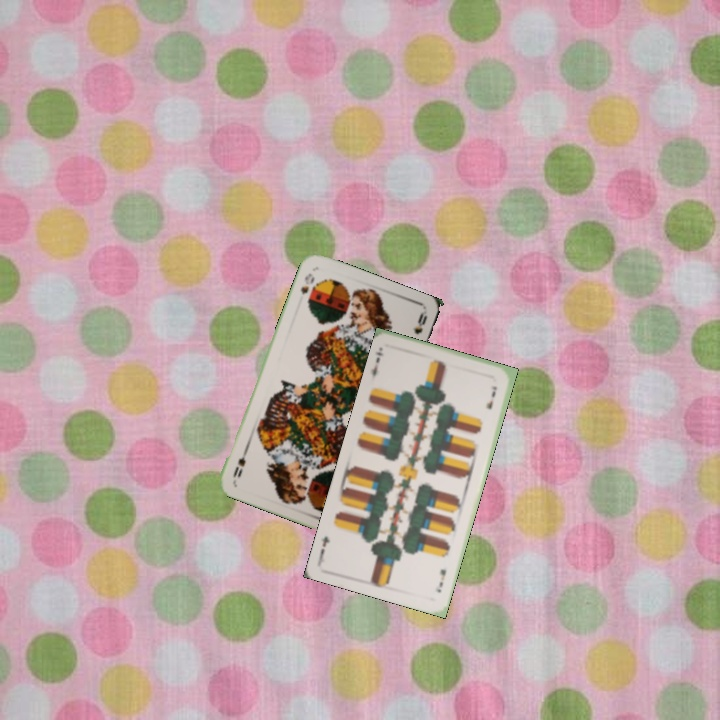E7: (367, 347, 385, 384), (431, 565, 448, 595)
SO: (297, 269, 317, 306)
